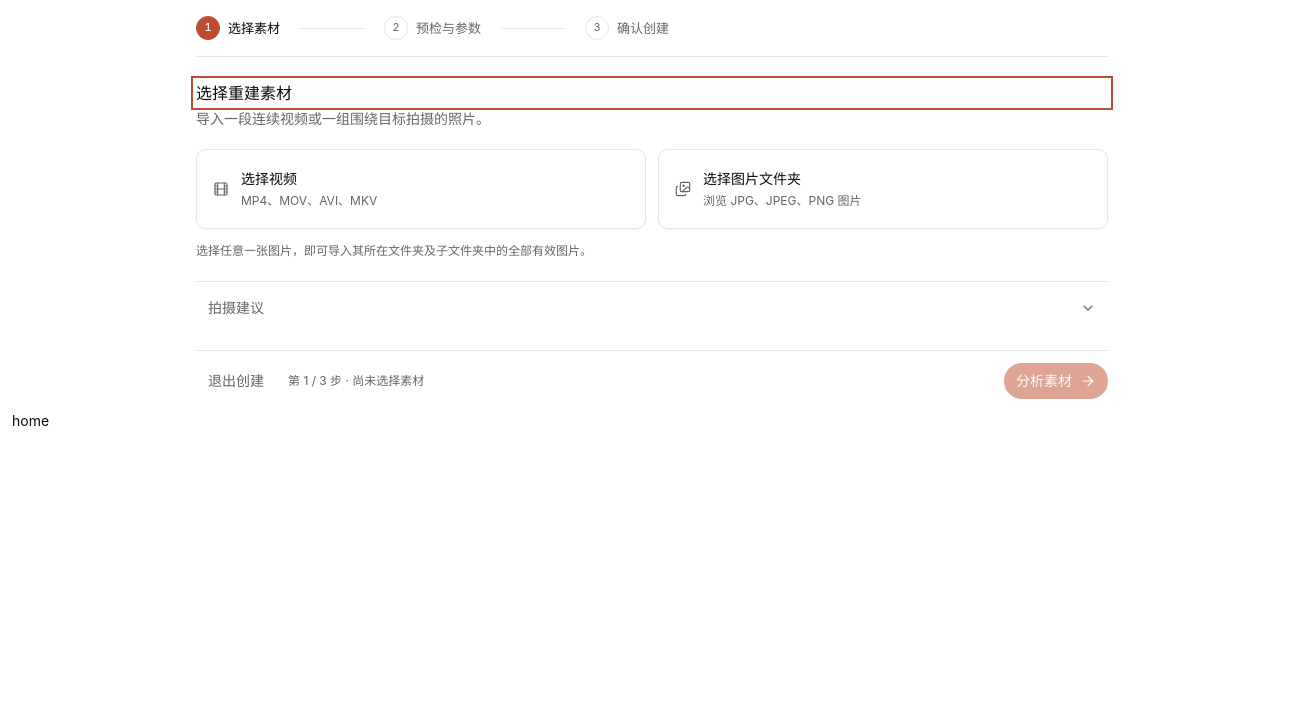
Test case: NewProjectPage › creates B but skips start and queueing when project A is active
Click the button "选择视频 MP4、MOV、AVI、MKV": coordinates (269, 178) [196,149,646,229]
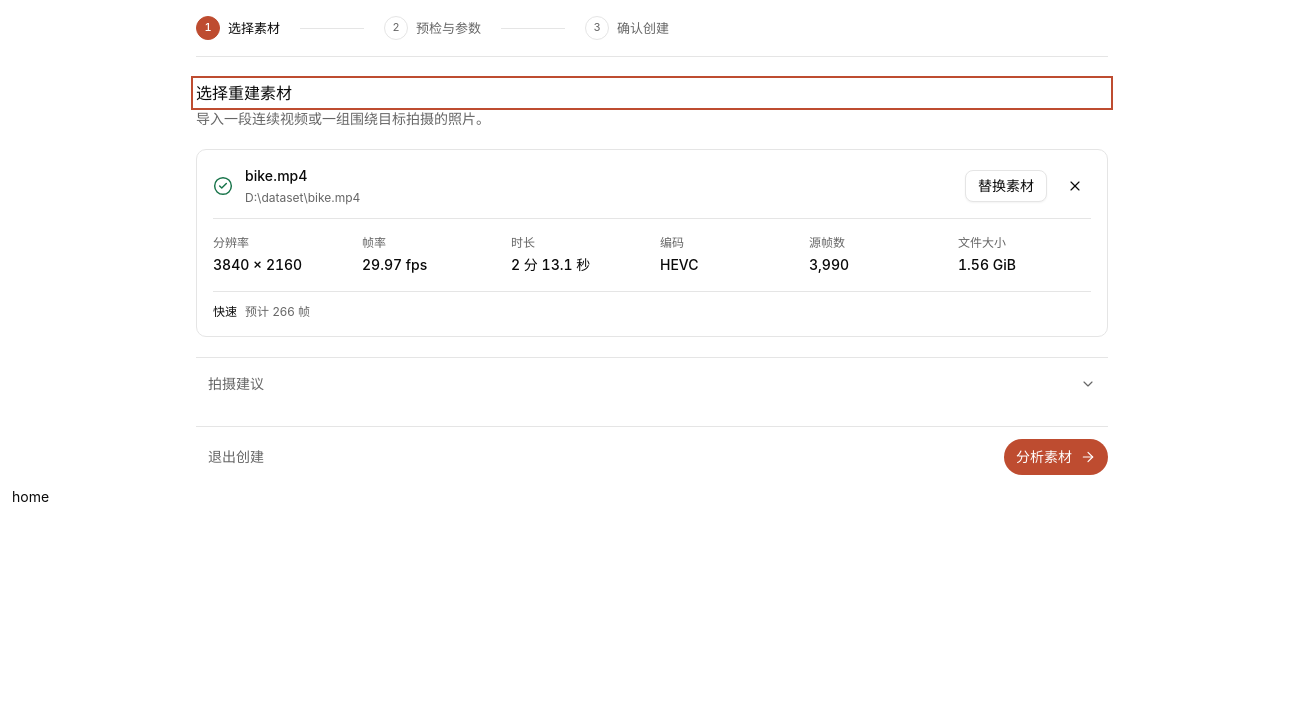
Check: the text "3840 × 2160" is shown, box [213,256,302,273]
Click the button named "下一步": coordinates (1056, 457) [1004,439,1108,475]
(page scrolled)
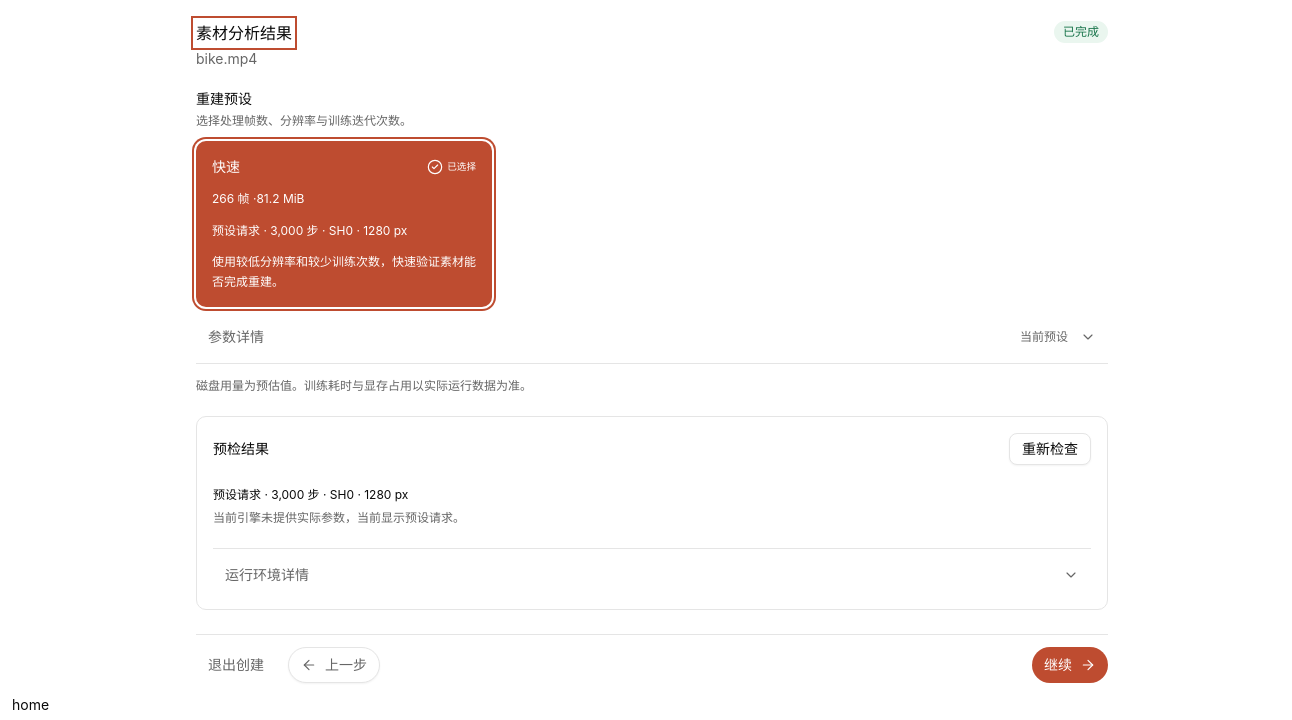
Click the button named "下一步": coordinates (1070, 664) [1032,646,1108,682]
(page scrolled)
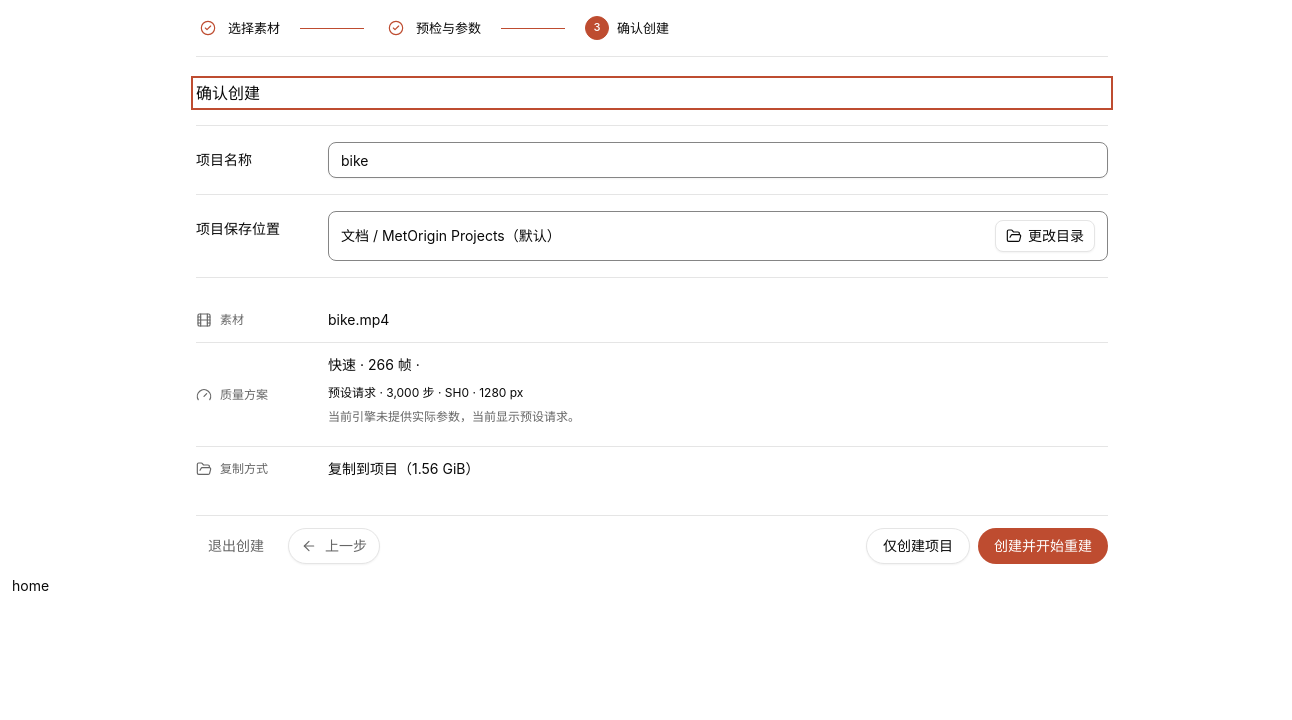
Check: the heading "确认创建" is shown, box [196,83,260,103]
Click the button "创建并开始重建": coordinates (1043, 546) [978,528,1108,564]
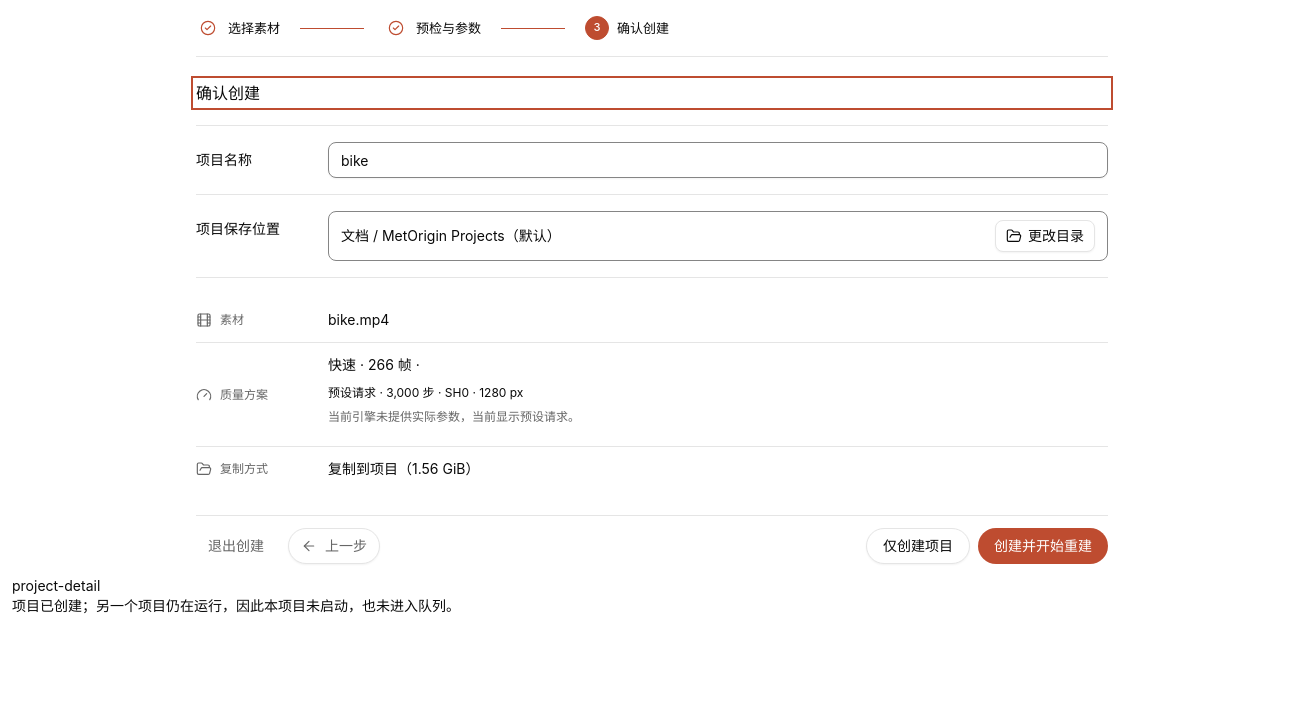
Check: the text with test id "page" reads "project-detail", box [12,577,100,594]
Check: the message shows "未启动，也未进入队列", box [12,597,460,614]
